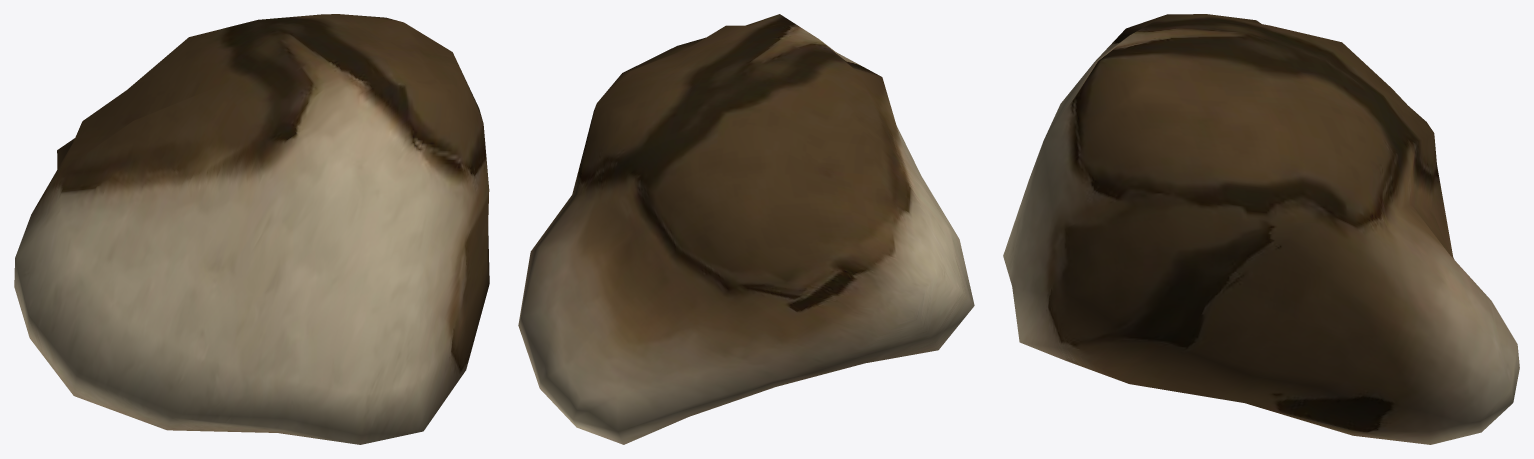
The model's file is Distal_Carpal_IV.glb.
The picture shows the model from 3 angles, left to right: view 1: azimuth 30°, elevation 25°; view 2: azimuth 150°, elevation 25°; view 3: azimuth 270°, elevation 25°; orthographic projection. The views are drawn at different scales.
Visible parts, largest first — view 1: Distal_Carpal_IV_Right1:Distal_Carpal_IV_Right; view 2: Distal_Carpal_IV_Right1:Distal_Carpal_IV_Right; view 3: Distal_Carpal_IV_Right1:Distal_Carpal_IV_Right.
Part boxes in pixels (left/top/right/bottom): Distal_Carpal_IV_Right1:Distal_Carpal_IV_Right: left=14, top=14, right=489, bottom=444; Distal_Carpal_IV_Right1:Distal_Carpal_IV_Right: left=518, top=14, right=974, bottom=444; Distal_Carpal_IV_Right1:Distal_Carpal_IV_Right: left=1003, top=14, right=1519, bottom=444.
Bounding box in the file's own units: 12.29 × 10.18 × 13.01.
1 material, 1 textured.
